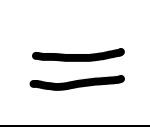eqv: (23, 46, 128, 93)
